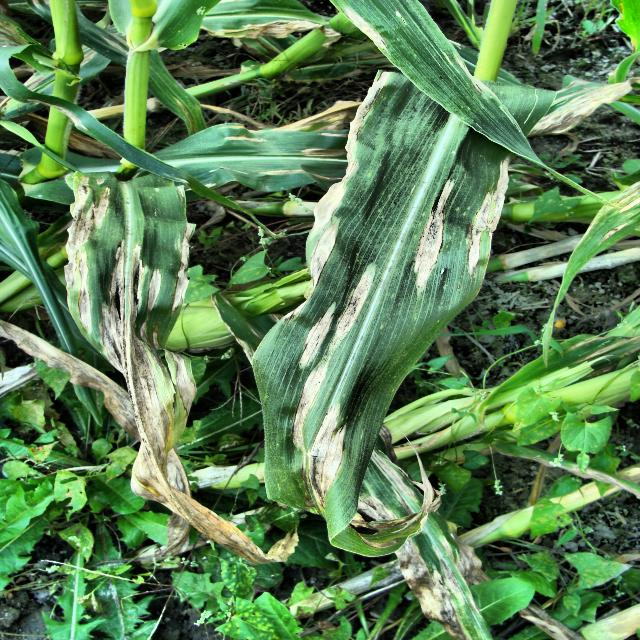blight: (61, 175, 266, 560)
